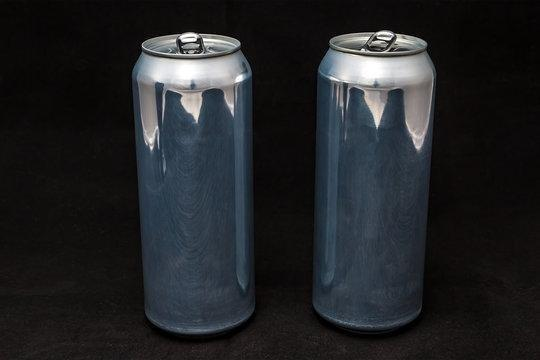tin can: (131, 29, 258, 340), (310, 28, 438, 336)
